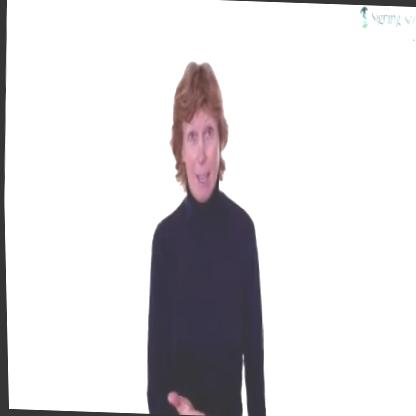ThankYou: (137, 60, 276, 416)
